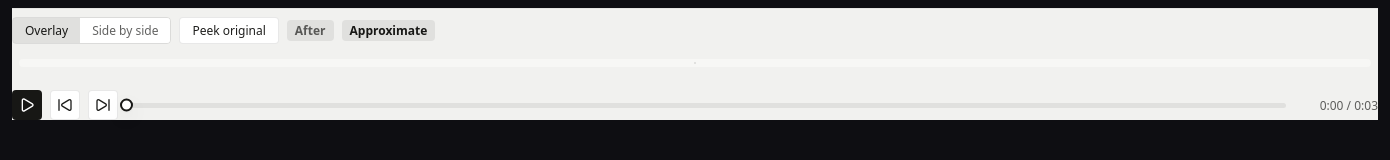
AiReviewPlayer › the shared play button toggles playback for the whole review
This screenshot has width=1390, height=160.
What coordinates should you click on to do the following:
click the button named "Play preview"
I would click on:
 (27, 105)
Its box is [12,90,42,120].
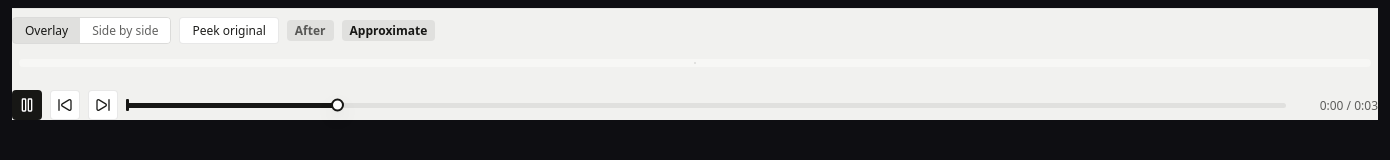
Check: the button named "Pause preview" is shown, box [12,90,42,120]
